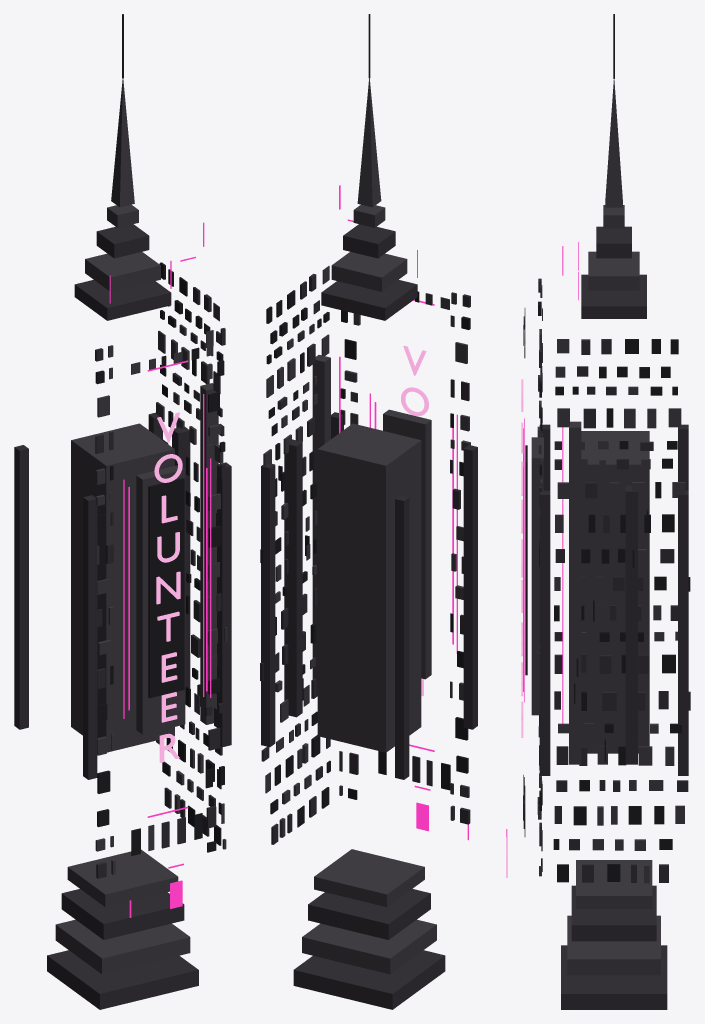
The model's file is volunteer.min.glb.
The picture shows the model from 3 angles, left to right: view 1: azimuth 30°, elevation 25°; view 2: azimuth 150°, elevation 25°; view 3: azimuth 270°, elevation 25°; orthographic projection.
Visible parts, largest first — view 1: Shaft, SignBack, SignPylon, Base0, Base1, Pier_-1_1, Pier_-1_-1, Base3, RightFin, Pier_1_-1, Base2, Sign_VOLUNTEER (+7 smaller); view 2: Shaft, Base0, RightFin2, Base1, Pier_-1_1, Pier_-1_-1, Base3, Pier_1_1, Base2, SignPylon, RightFin, Crown0 (+5 smaller); view 3: Shaft, RightFin, Base0, RightFin2, Base1, Pier_1_-1, Base3, Base2, Pier_1_1, SignPylon, Crown0, Crown1 (+8 smaller).
Boxes of the visible parts, <box> form: Shaft: <box>71,423,174,752</box>; SignBack: <box>148,478,184,698</box>; SignPylon: <box>136,465,185,734</box>; Base0: <box>47,950,198,1009</box>; Base1: <box>55,919,190,974</box>; Pier_-1_1: <box>14,445,28,729</box>; Pier_-1_-1: <box>83,495,97,779</box>; Base3: <box>67,849,178,907</box>; RightFin: <box>200,383,218,724</box>; Pier_1_-1: <box>217,462,231,747</box>; Base2: <box>61,889,184,939</box>; Sign_VOLUNTEER: <box>154,412,182,762</box>; Shaft: <box>317,423,421,752</box>; Base0: <box>293,950,445,1009</box>; RightFin2: <box>284,439,302,717</box>; Base1: <box>302,919,436,974</box>; Pier_-1_1: <box>395,495,409,779</box>; Pier_-1_-1: <box>463,445,477,729</box>; Base3: <box>314,849,424,907</box>; Pier_1_1: <box>261,463,275,747</box>; Base2: <box>308,889,430,939</box>; SignPylon: <box>383,409,431,679</box>; RightFin: <box>312,355,330,694</box>; Crown0: <box>321,279,417,320</box>; Shaft: <box>581,431,649,753</box>; RightFin: <box>569,421,581,764</box>; Base0: <box>561,945,667,1009</box>; RightFin2: <box>625,485,637,764</box>; Base1: <box>567,915,660,975</box>; Pier_1_-1: <box>539,490,550,775</box>; Base3: <box>576,860,652,908</box>; Base2: <box>571,885,656,941</box>; Pier_1_1: <box>678,490,688,775</box>; SignPylon: <box>531,437,543,715</box>; Crown0: <box>581,274,646,318</box>; Crown1: <box>588,251,639,290</box>.
Bounding box in the file's own units: 9.58 × 60.5 × 10.4.
